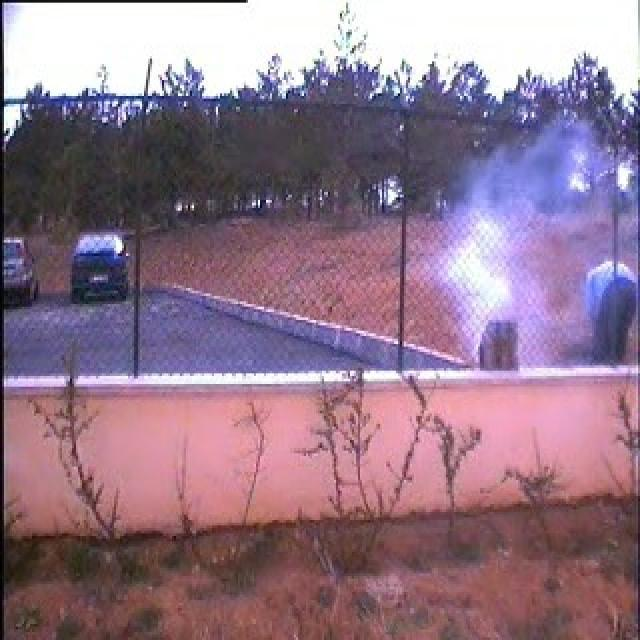Smoke: (430, 121, 593, 361)
